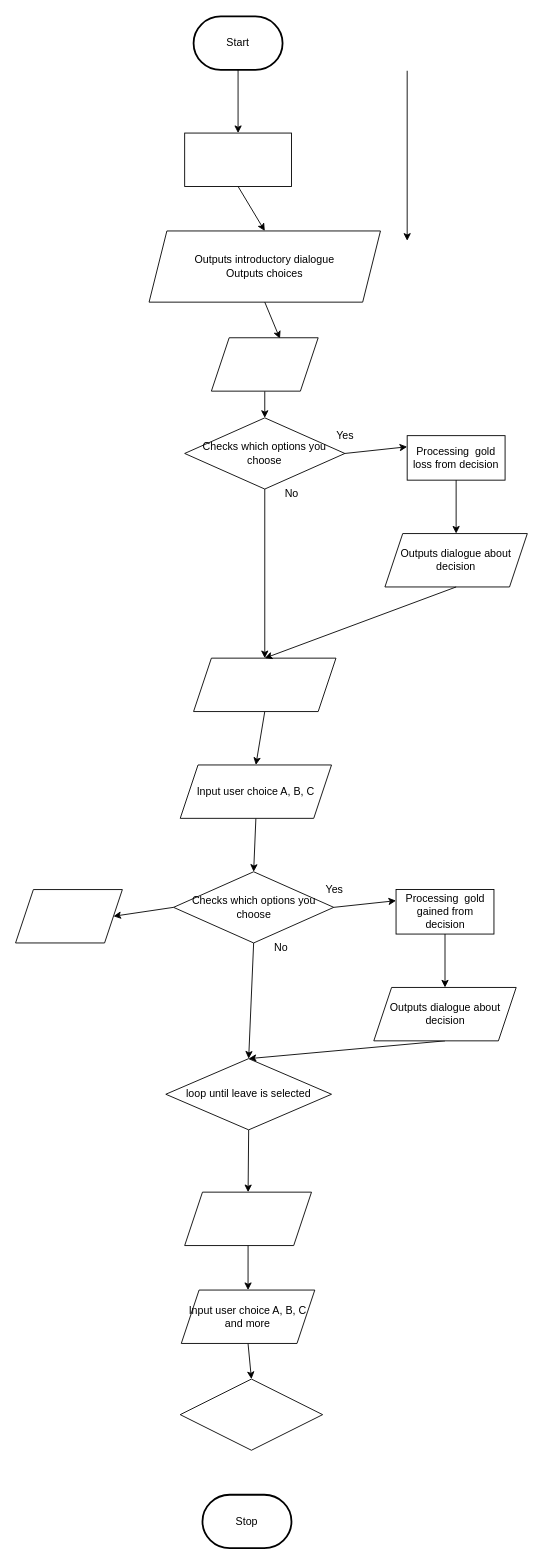
This 543x1564 diagram has some shape labels left out. The centre of each missing label's shape, as x and y in pixels:
"asks user to Input choice A, B, C" belongs at (264,364).
"Checks what User choose" belongs at (251,1414).
"Option C outputs ending 1" belongs at (68,916).
"Outputs next dialogue and options" belongs at (264,684).
"Prints shop options" belongs at (248,1218).
"Variables and lists" belongs at (237,159).
